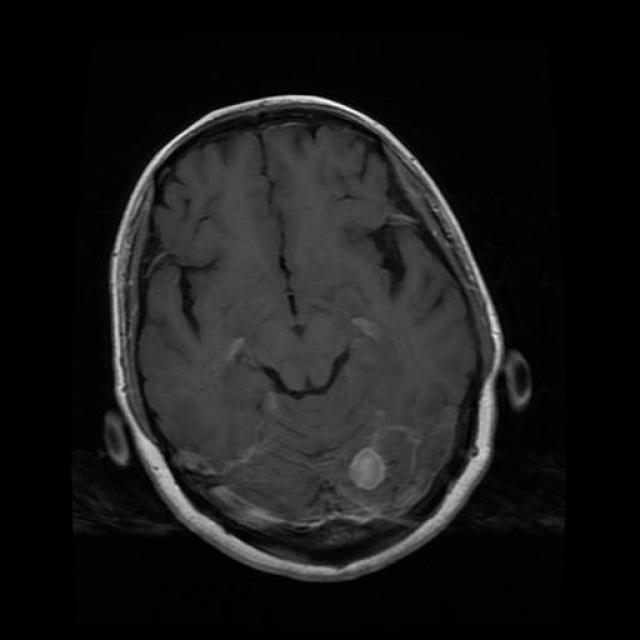meningioma: (349, 448, 385, 491)
